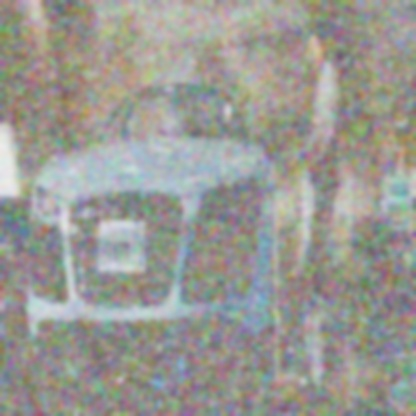Vehicle: (25, 80, 279, 406)
